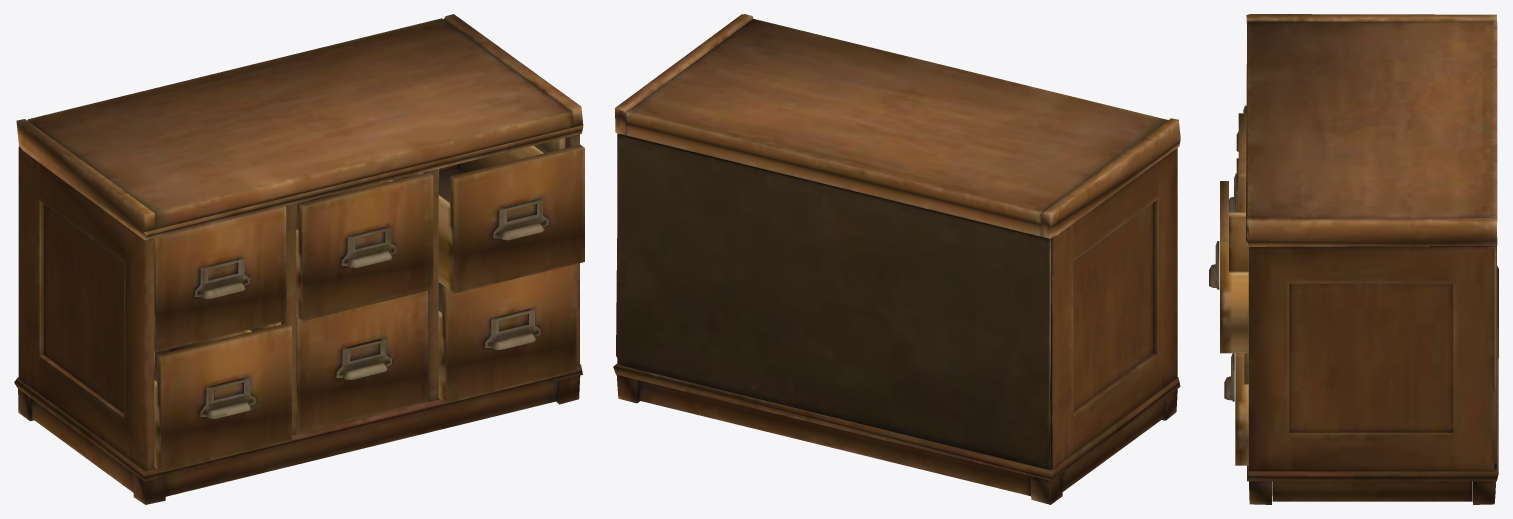
File: vintage_wooden_drawer_01.glb
3 views of the same model, side by side, from view 1: azimuth 30°, elevation 25°; view 2: azimuth 150°, elevation 25°; view 3: azimuth 270°, elevation 25° (orthographic). The views are drawn at different scales.
Visible parts, largest first — view 1: vintage_wooden_drawer_01_body; view 2: vintage_wooden_drawer_01_body; view 3: vintage_wooden_drawer_01_body.
Boxes of the visible parts, x1,y1,x2,y2 form: vintage_wooden_drawer_01_body: [14, 14, 584, 504]; vintage_wooden_drawer_01_body: [613, 14, 1180, 504]; vintage_wooden_drawer_01_body: [1209, 14, 1498, 504].
Size of the model in its own units: 1.71 by 1.09 by 1.
1 material, 1 textured.
